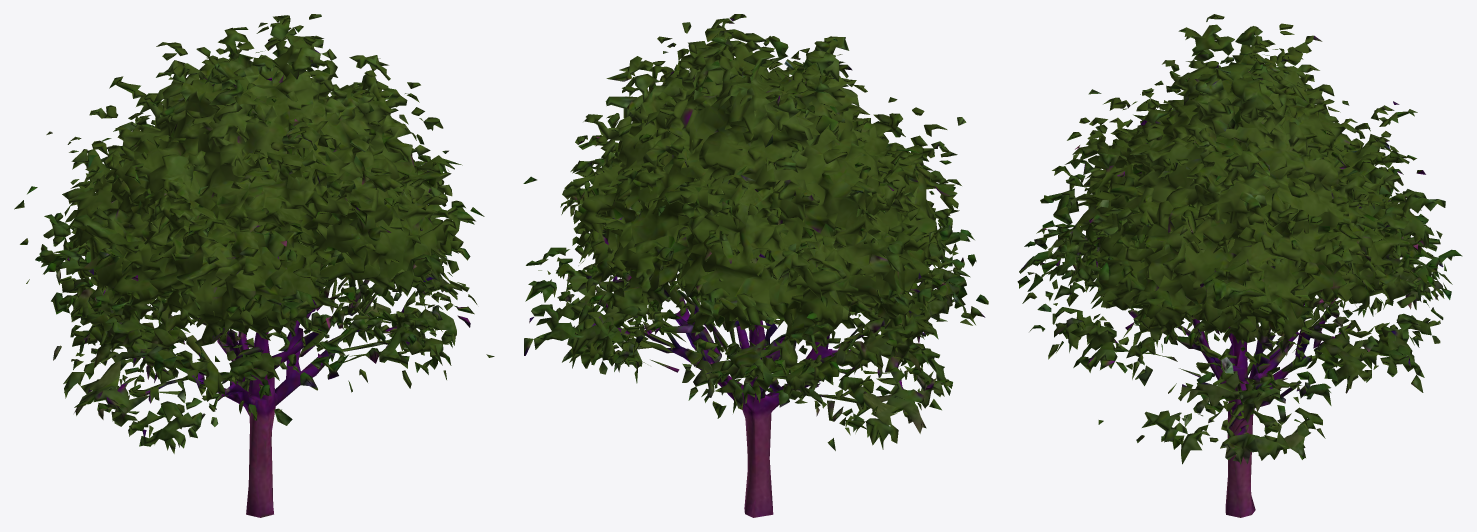
Rendered from g-temperate-tree.glb.
3 renders of one model, left to right at view 1: azimuth 30°, elevation 25°; view 2: azimuth 150°, elevation 25°; view 3: azimuth 270°, elevation 25°, orthographic. The views are drawn at different scales.
Parts seen in each view (by area): view 1: world; view 2: world; view 3: world.
Boxes of the visible parts, <box> form: world: <box>14,14,494,517</box>; world: <box>523,14,988,517</box>; world: <box>1017,14,1462,517</box>.
Size of the model in its own units: 1.7 by 1.99 by 1.69.
Materials: 1 (1 with a texture image).
